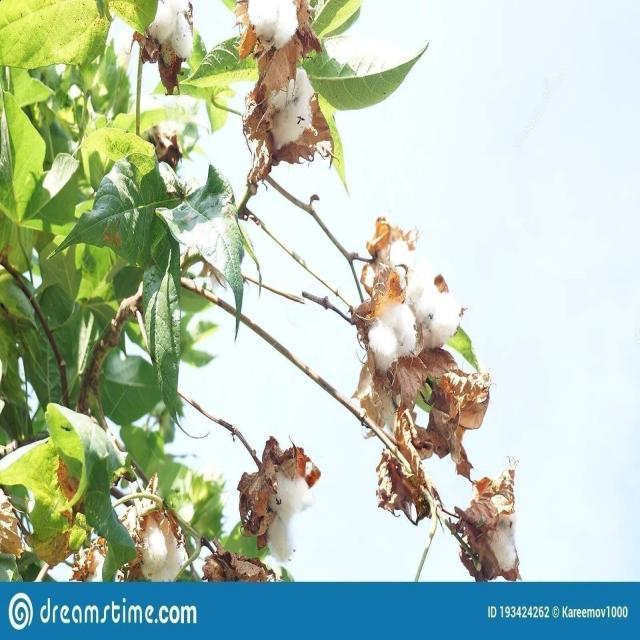Early_blight: (237, 434, 316, 562), (256, 66, 317, 158), (466, 486, 520, 580), (410, 264, 464, 350), (129, 498, 181, 581), (367, 302, 416, 368)
